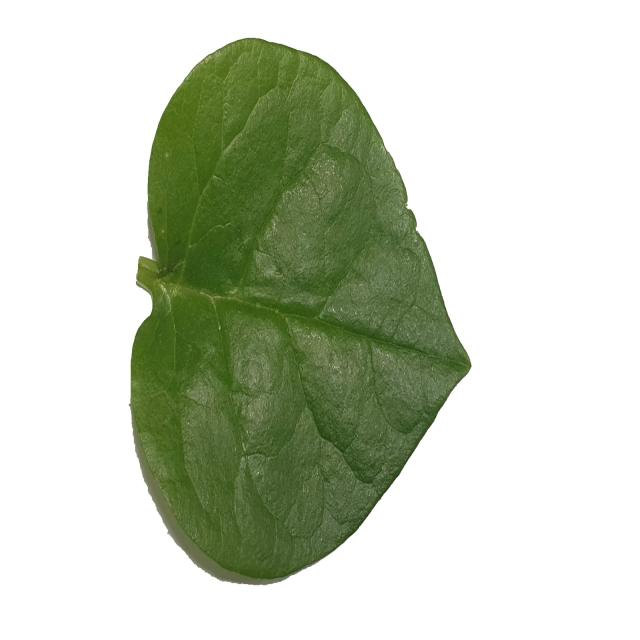Medicinal-Basale: (128, 32, 473, 588)
